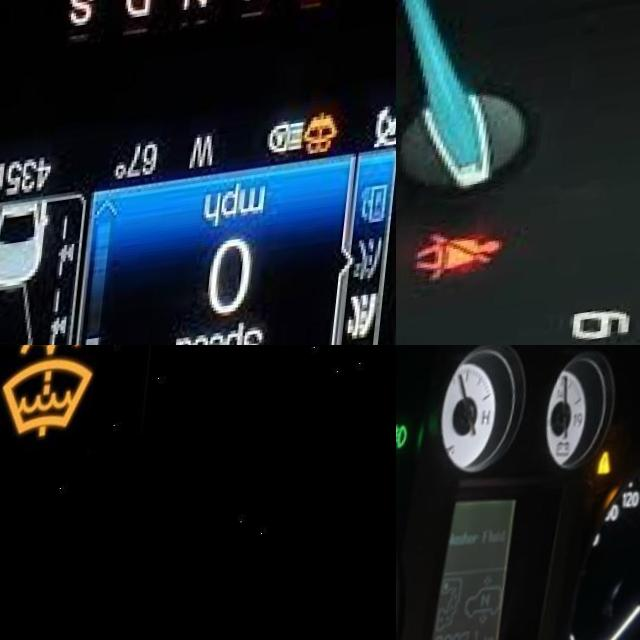Central Warning lamp: (595, 464, 624, 499)
Seat Belt: (419, 236, 509, 289)
Washer Fluid: (0, 345, 108, 454), (305, 125, 348, 170)
